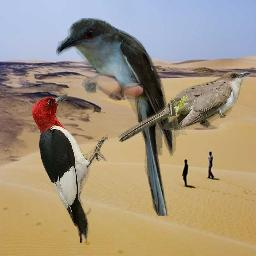Cuckoo: (56, 18, 177, 216), (116, 70, 250, 142)
Woodpecker: (30, 91, 108, 243)
